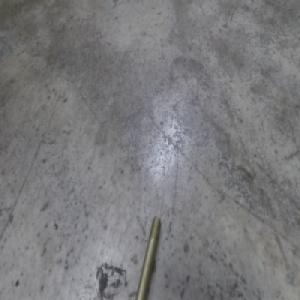Bolt: (131, 206, 159, 300)
